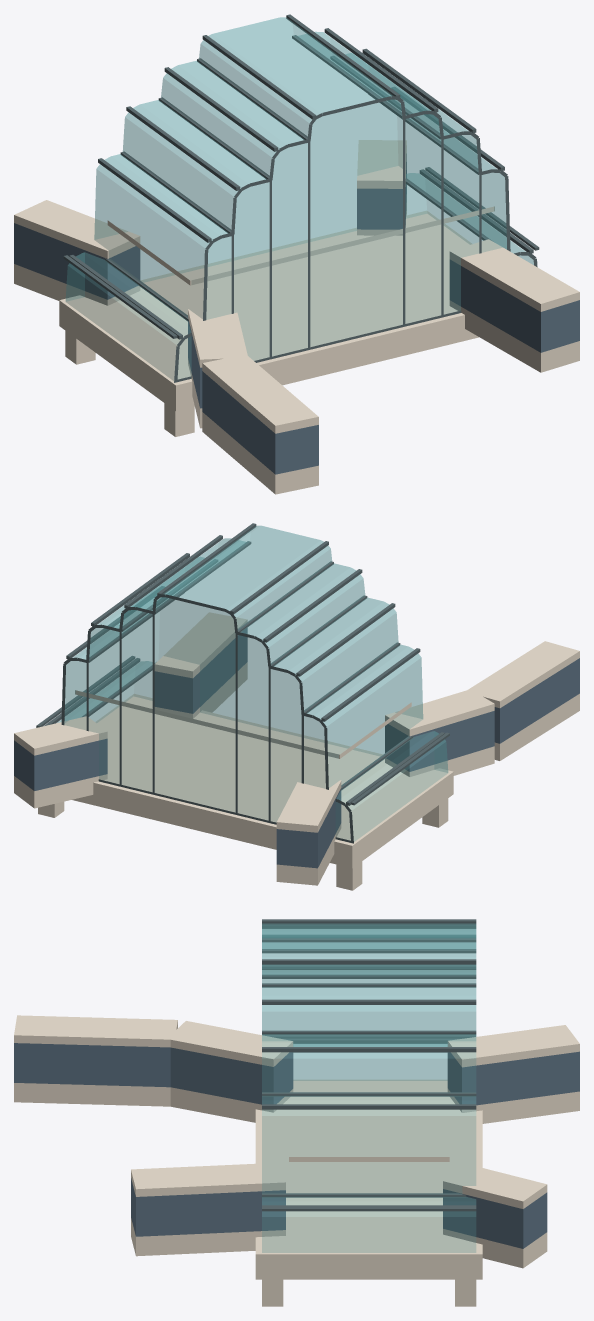
File: indy-artsgarden.glb
The picture shows the model from 3 angles, top to bottom: view 1: azimuth 30°, elevation 25°; view 2: azimuth 150°, elevation 25°; view 3: azimuth 270°, elevation 25°; orthographic projection. The views are drawn at different scales.
Visible parts, largest first — view 1: The Artsgarden; view 2: The Artsgarden; view 3: The Artsgarden.
Part boxes in pixels (left/top/right/bottom): The Artsgarden: left=14, top=14, right=579, bottom=494; The Artsgarden: left=14, top=523, right=579, bottom=890; The Artsgarden: left=14, top=919, right=579, bottom=1306.
Size of the model in its own units: 41.08 by 28.98 by 52.81.
